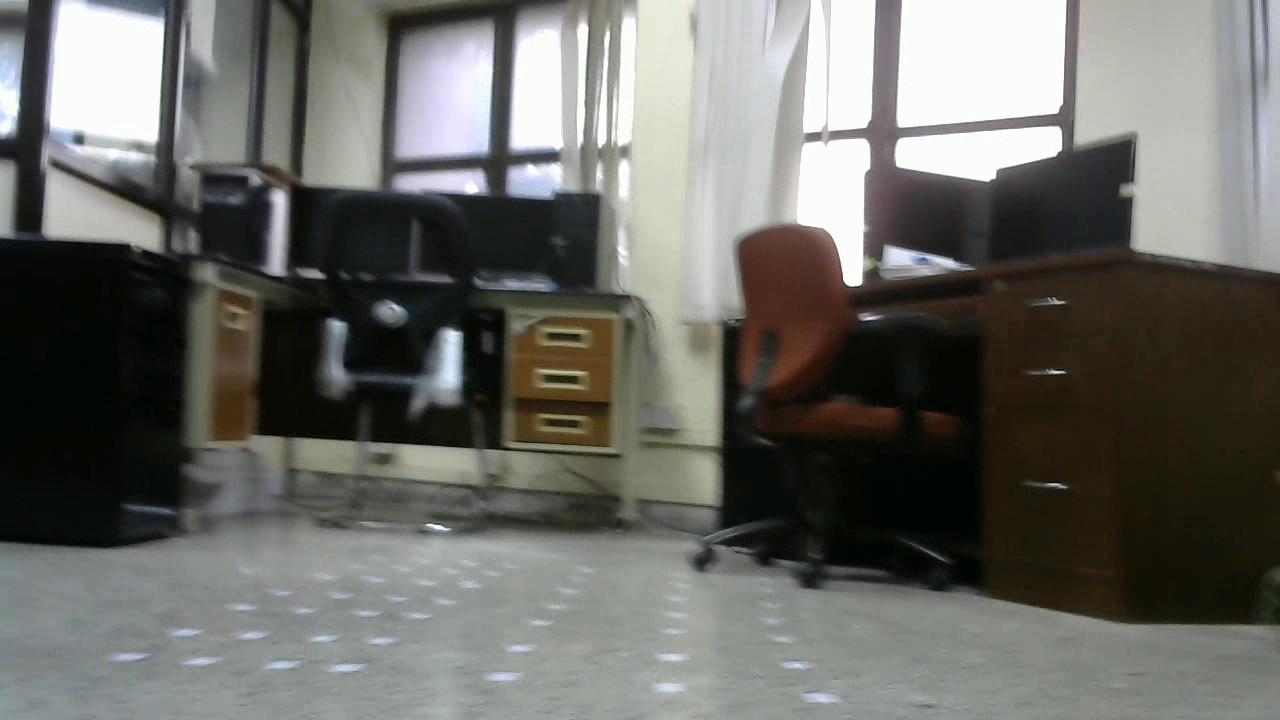chair: (690, 224, 965, 596), (306, 193, 498, 534)
